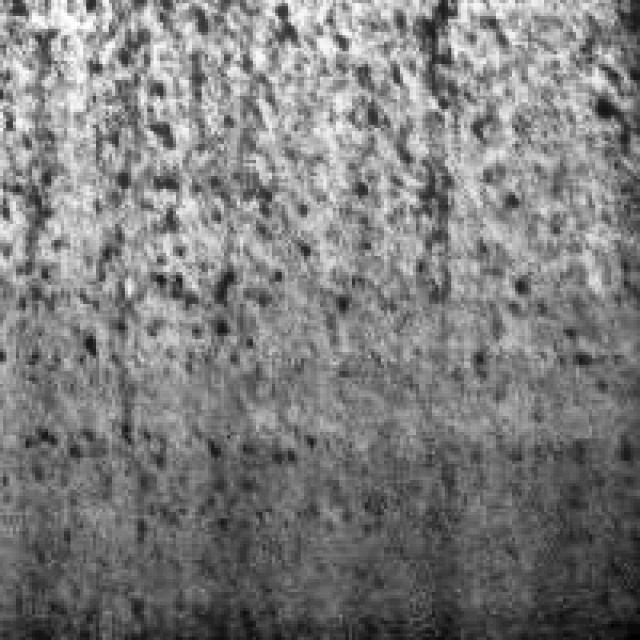Rolled_in_Scale: (38, 0, 637, 637)
